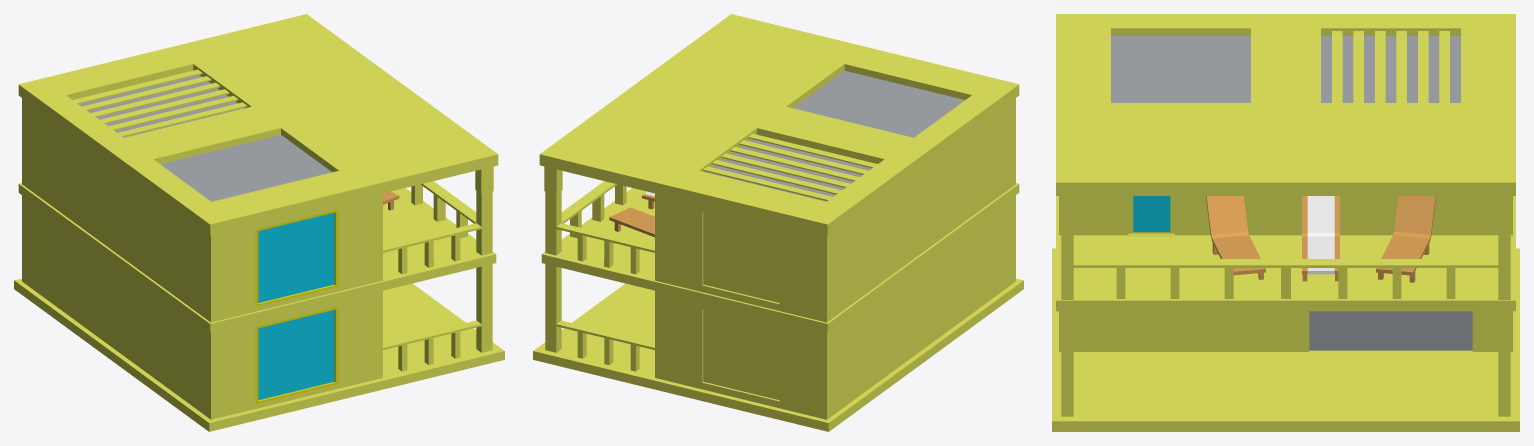
Rendered from house3.fbx.
The picture shows the model from 3 angles, left to right: view 1: azimuth 30°, elevation 25°; view 2: azimuth 150°, elevation 25°; view 3: azimuth 270°, elevation 25°; orthographic projection. The views are drawn at different scales.
Parts seen in each view (by area): view 1: house3; view 2: house3; view 3: house3.
Boxes of the visible parts, x1,y1,x2,y2 form: house3: (14, 14, 504, 431); house3: (533, 14, 1023, 431); house3: (1052, 14, 1519, 431).
Size of the model in its own units: 700 by 465 by 800.
